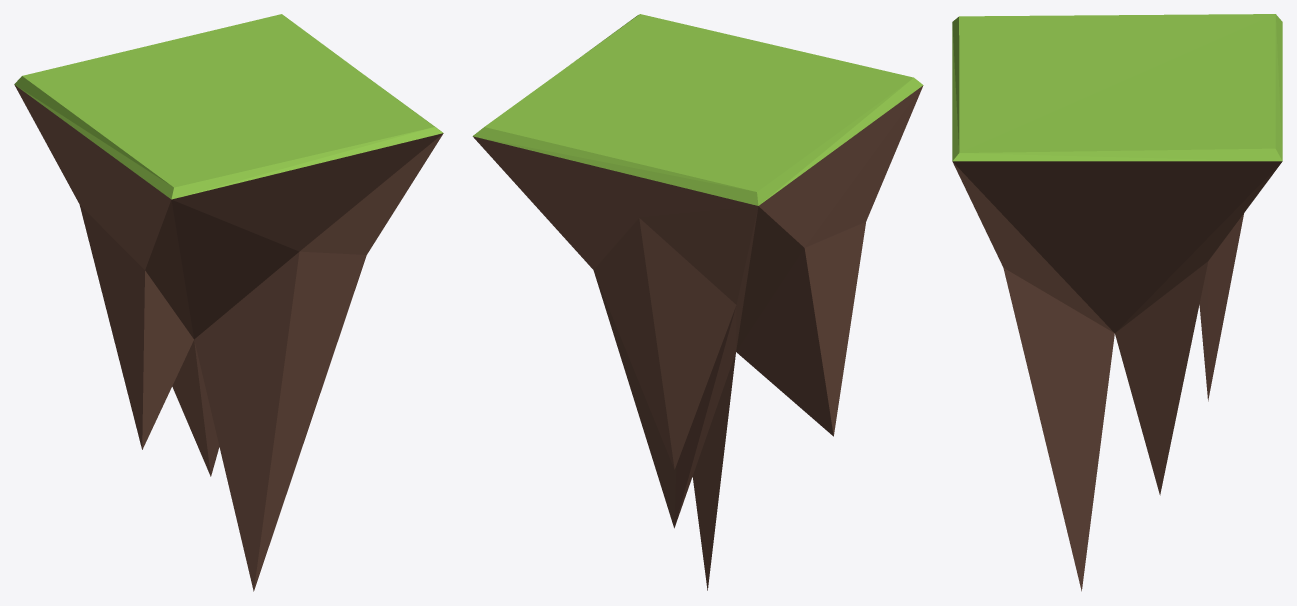
Rendered from Island.glb.
The picture shows the model from 3 angles, left to right: view 1: azimuth 30°, elevation 25°; view 2: azimuth 150°, elevation 25°; view 3: azimuth 270°, elevation 25°; orthographic projection. The views are drawn at different scales.
Parts seen in each view (by area): view 1: group1926919455; view 2: group1926919455; view 3: group1926919455.
Boxes of the visible parts, x1,y1,x2,y2 form: group1926919455: (14, 14, 443, 591); group1926919455: (472, 14, 923, 590); group1926919455: (952, 14, 1282, 591).
Size of the model in its own units: 0.87 by 1.47 by 0.87.
